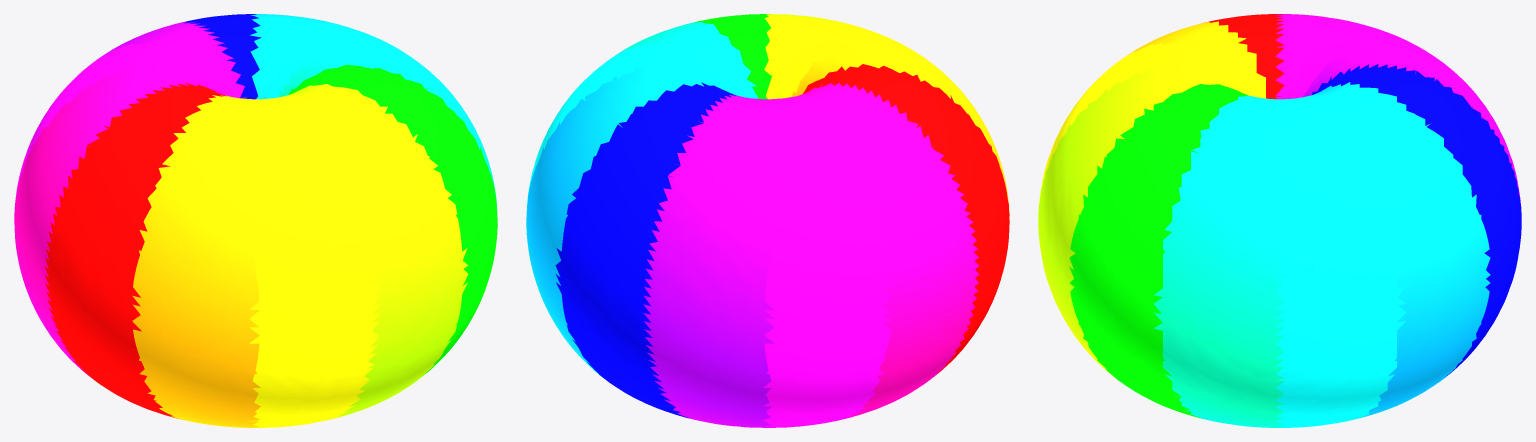
File: orbital_n2_l1_m1_complex_phase.fbx
3 renders of one model, left to right at view 1: azimuth 30°, elevation 25°; view 2: azimuth 150°, elevation 25°; view 3: azimuth 270°, elevation 25°, orthographic.
Visible parts, largest first — view 1: orbital_n2_l1_m1_complex_phase; view 2: orbital_n2_l1_m1_complex_phase; view 3: orbital_n2_l1_m1_complex_phase.
Part boxes in pixels (x1,y1,x2,y2): orbital_n2_l1_m1_complex_phase: (14,14,497,427); orbital_n2_l1_m1_complex_phase: (526,14,1009,427); orbital_n2_l1_m1_complex_phase: (1038,14,1521,427).
Bounding box in the file's own units: 1960 × 1388 × 1960.
